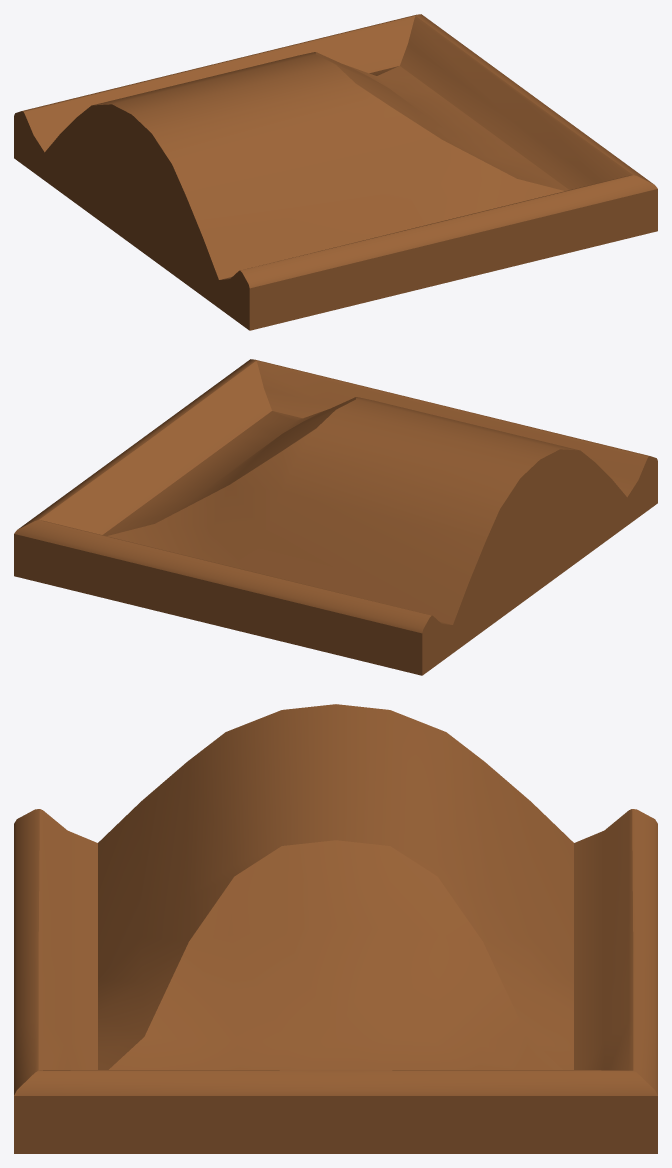
File: CI_005_006_007_008_wall_deco_1_join.glb
The picture shows the model from 3 angles, top to bottom: view 1: azimuth 30°, elevation 25°; view 2: azimuth 150°, elevation 25°; view 3: azimuth 270°, elevation 25°; orthographic projection. The views are drawn at different scales.
Visible parts, largest first — view 1: Plane; view 2: Plane; view 3: Plane.
Part boxes in pixels (bbox=[...]): Plane: bbox=[14, 14, 657, 330]; Plane: bbox=[14, 359, 657, 675]; Plane: bbox=[14, 704, 657, 1153].
Size of the model in its own units: 0.75 by 0.2282 by 0.75.
